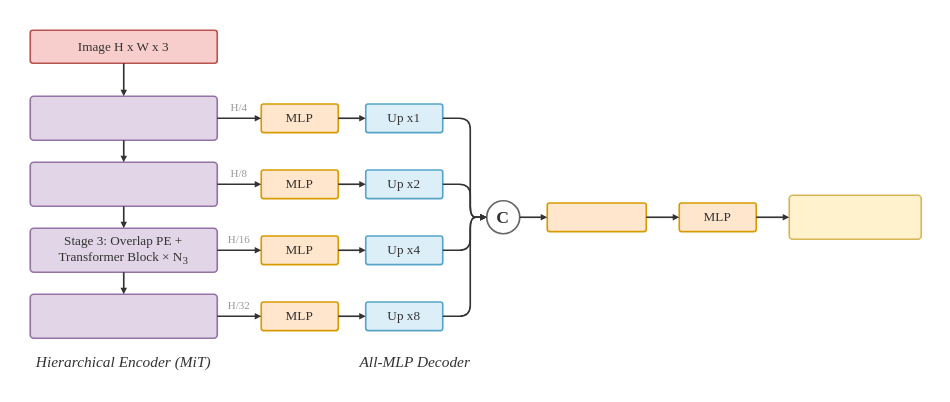
Some shapes in this 950 by 402 pixel diagram are drawn without their labels. Here are the shapes that lost their labels. From the top down, the centre of each, then its label:
At (123,118): "Stage 1: Overlap PE + Transformer Block × N 1".
At (123,184): "Stage 2: Overlap PE + Transformer Block × N 2".
At (596,217): "MLP (fuse)".
At (855,217): "Mask H/4 x W/4 x N cls".
At (123,316): "Stage 4: Overlap PE + Transformer Block × N 4".
